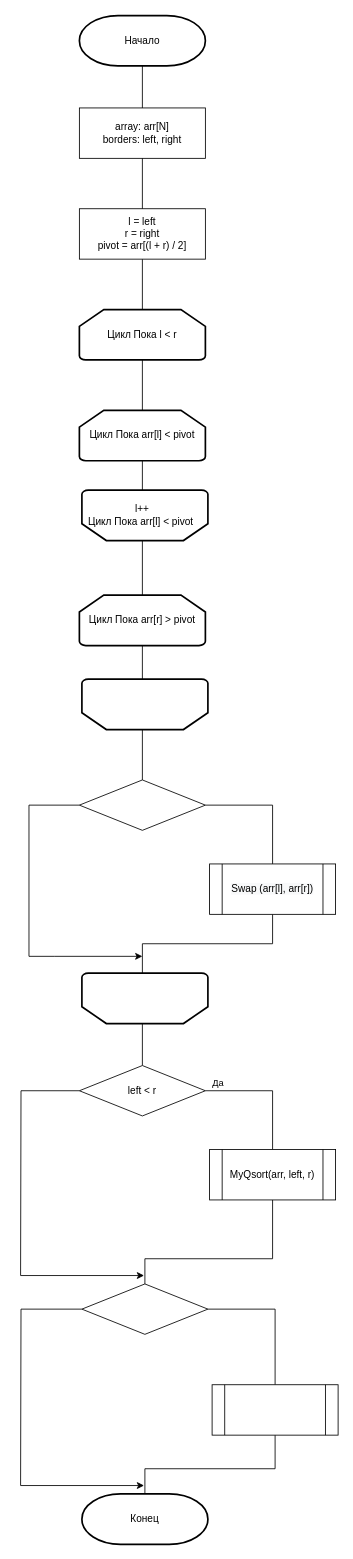
This 353x1559 diagram has some shape labels left out. The box of each missing label's shape, as (x1, y1, x2, y2) in pixels:
l <= r: (79, 779, 205, 830)
MyQsort(arr, l, right): (211, 1384, 338, 1435)
r++ Цикл Пока arr[r] > pivot: (81, 678, 208, 730)
right > l: (81, 1283, 208, 1334)
Цикл l < r: (81, 972, 208, 1024)
